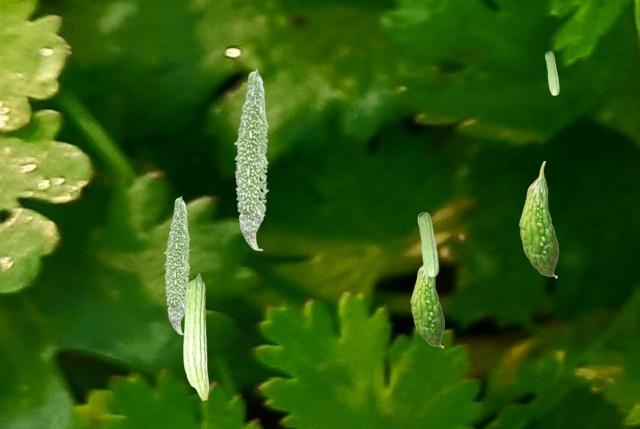ampalaya: (233, 68, 269, 251), (518, 160, 559, 279), (163, 195, 190, 335), (182, 273, 209, 401), (410, 264, 445, 348), (417, 211, 439, 277), (544, 51, 560, 95)
